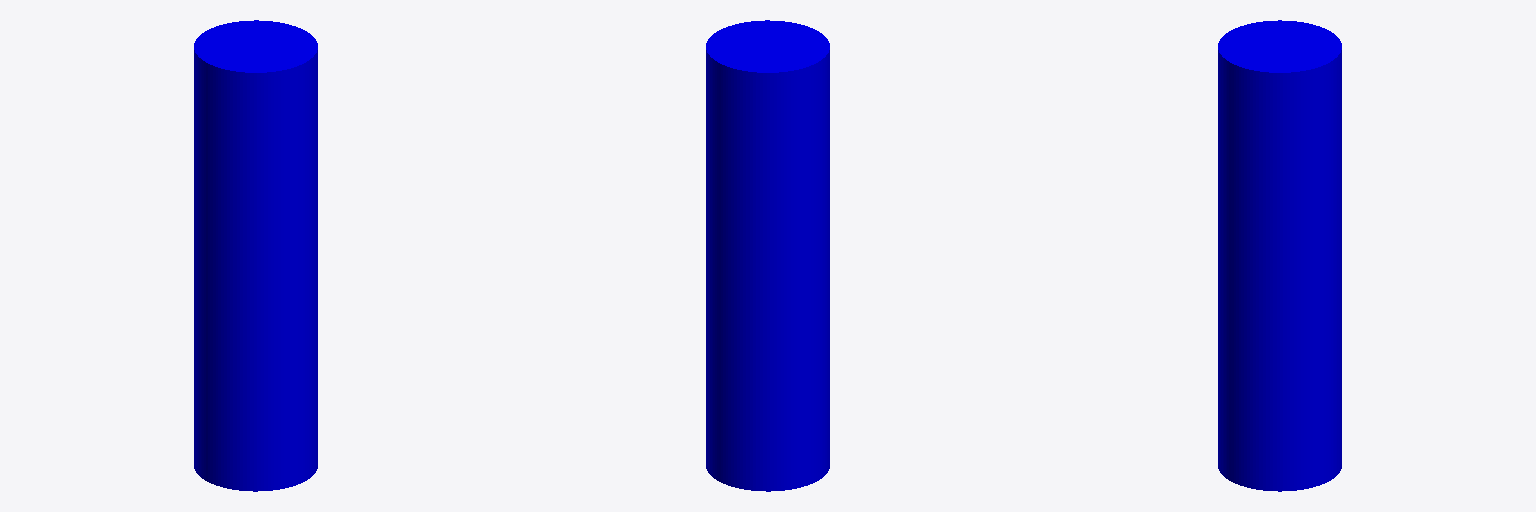
robot.urdf — board2_block12:
<?xml version="1.0"?>
<robot name="board2_block12">
    <link name="board2_block12">
        <visual>
            <origin xyz="0 0 0 " rpy=" 0 0 0"/>
            <geometry>
                <mesh filename="../meshes/SIMO_Board2_Block12.stl" scale="0.001 0.001 0.001"/>
            </geometry>
            <material name="red">
                <color rgba="0.0 0.0 1.0 1.0"/>
            </material>
        </visual>
        <collision>
            <origin xyz="0 0 0" rpy="0 0 0"/>
            <geometry>
                <mesh filename="../meshes/SIMO_Board2_Block12.stl" scale="0.001 0.001 0.001"/>
            </geometry>
        </collision>
    </link>
</robot>

--- What the picture shows (computed from the rendered views, not written in the file) ---
Views: 3 orthographic renders of the robot side by side, from view 1: azimuth 30°, elevation 25°; view 2: azimuth 150°, elevation 25°; view 3: azimuth 270°, elevation 25°.
Robot: board2_block12 — 1 links, 0 joints (none); root link board2_block12; default pose: every joint at zero.
Links seen in each view (by area): view 1: board2_block12; view 2: board2_block12; view 3: board2_block12.
Boxes of the visible links, x1,y1,x2,y2 form: board2_block12: [194, 20, 317, 491]; board2_block12: [706, 20, 829, 491]; board2_block12: [1218, 20, 1341, 491].
Bounding box of the posed robot: 0.0403 × 0.0403 × 0.15 m (x, y, z).
1 mesh visuals loaded from 1 distinct referenced files (1 ASCII STL).